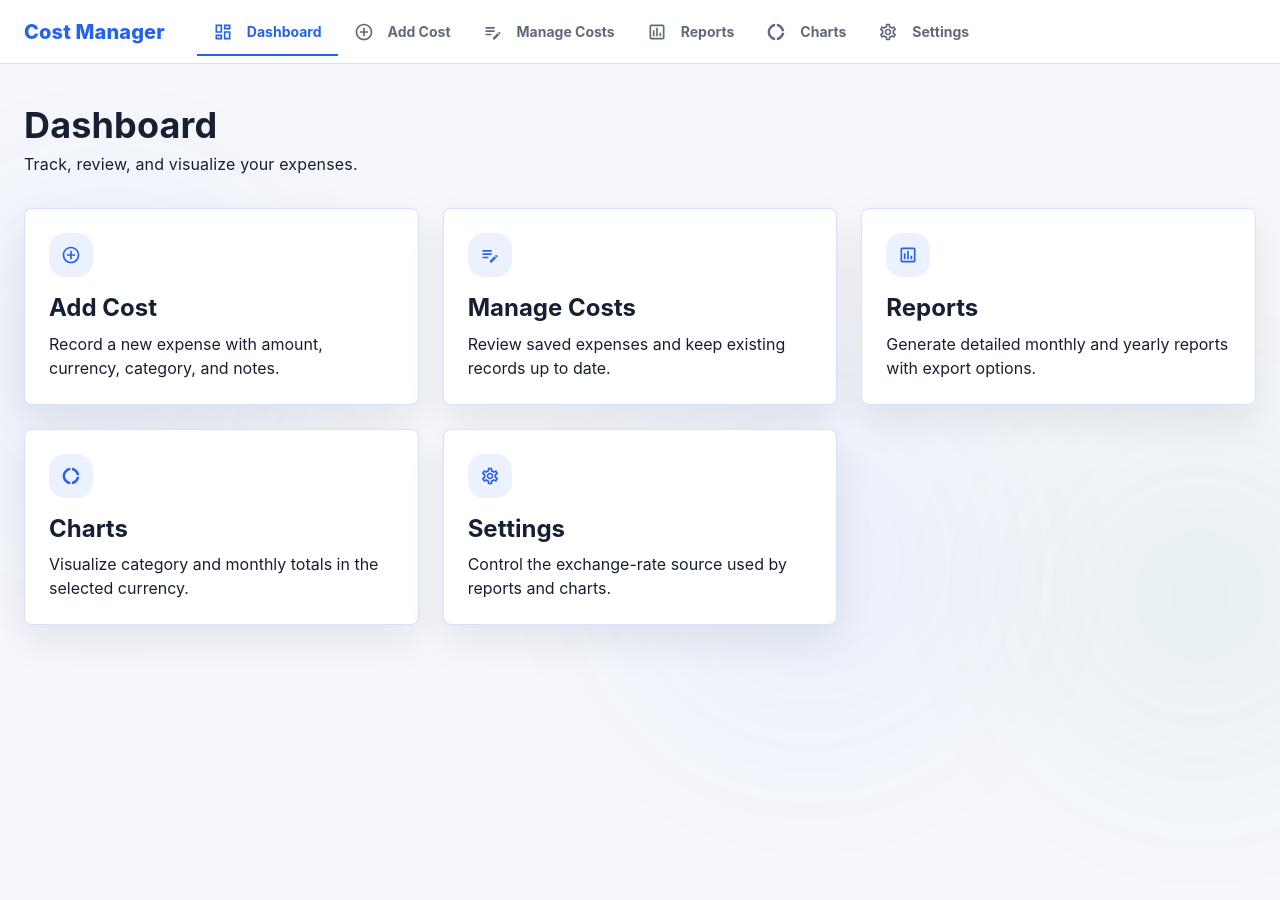
App › switches to the Reports view without reloading
Click the tab "Reports" at (690, 32), box [631,8,750,56]
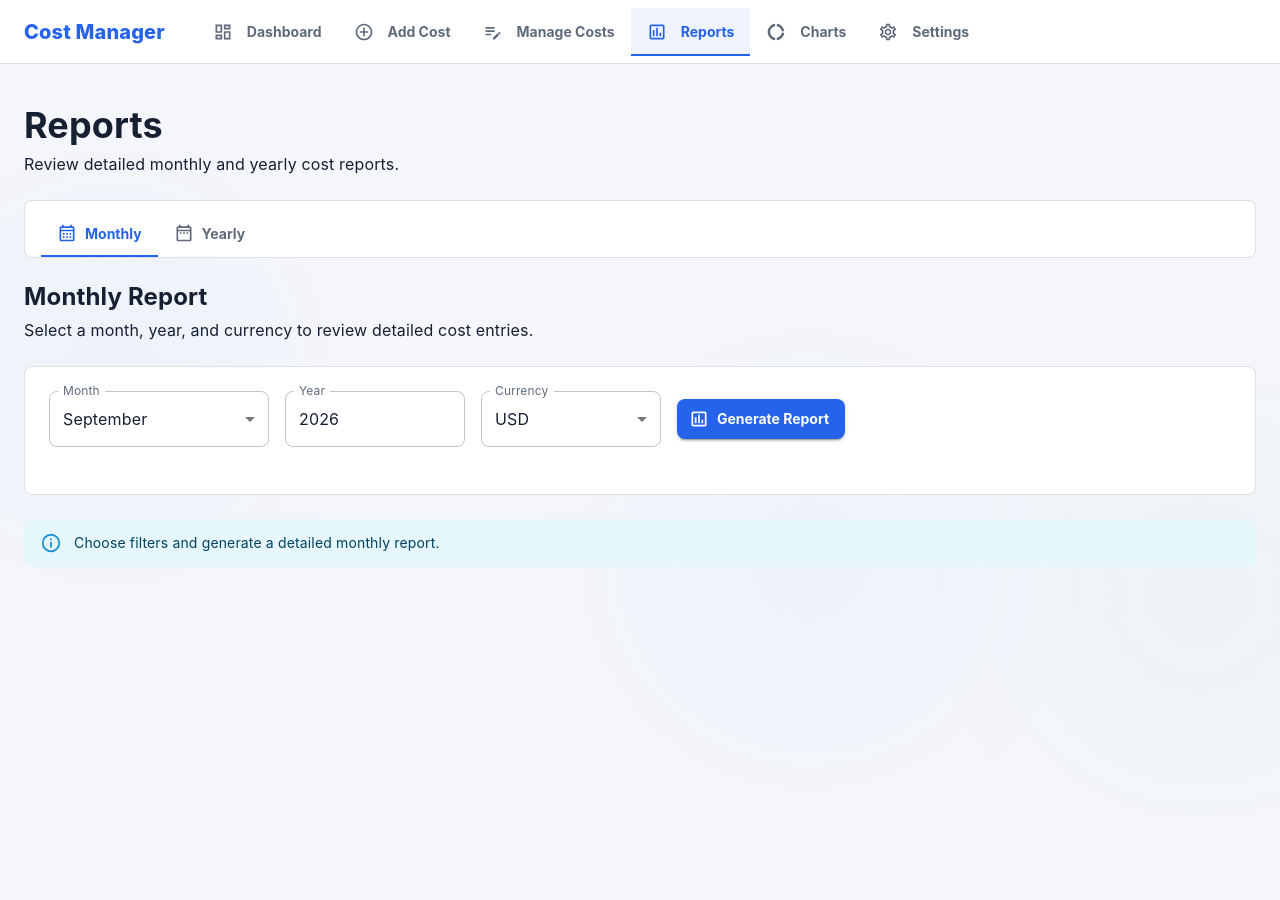
expect the heading "Reports" is shown: met, box [24,103,163,147]
expect the heading "Monthly Report" is shown: met, box [24,282,207,312]
expect the tab "Yearly" is shown: met, box [158,210,261,258]
